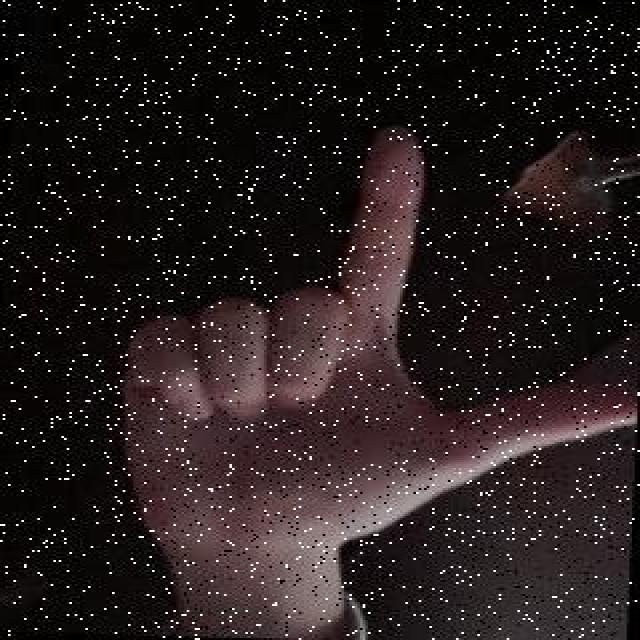L: (66, 122, 640, 636)
